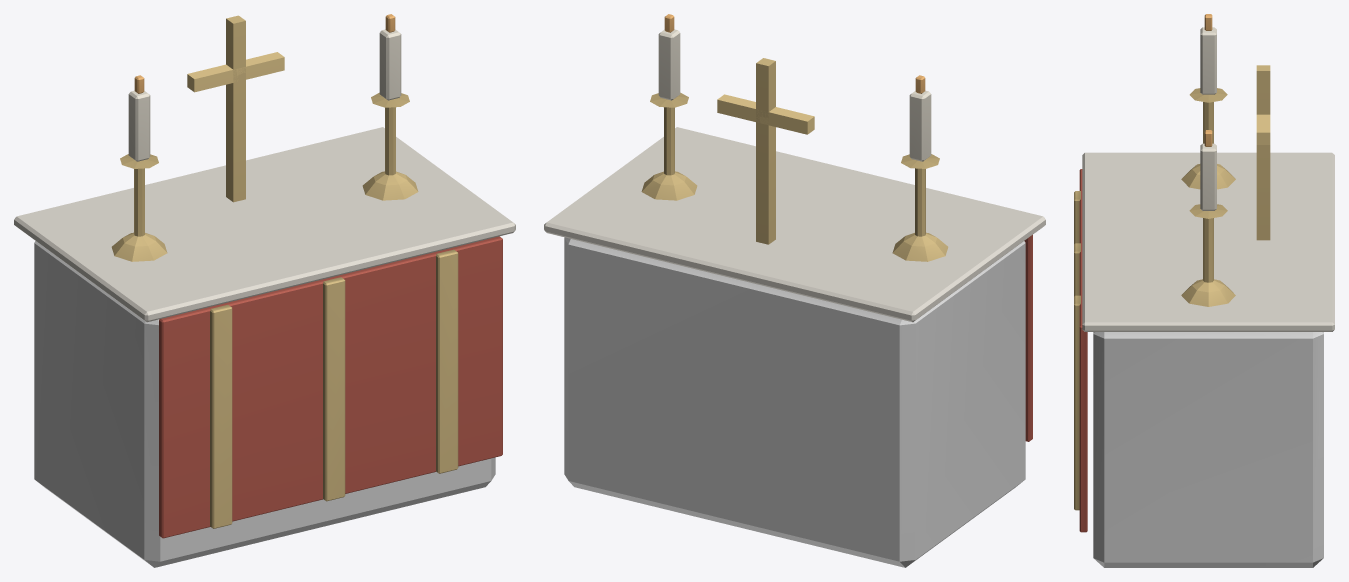
Rendered from altar.glb.
3 views of the same model, side by side, from view 1: azimuth 30°, elevation 25°; view 2: azimuth 150°, elevation 25°; view 3: azimuth 270°, elevation 25° (orthographic). The views are drawn at different scales.
Parts seen in each view (by area): view 1: altar; view 2: altar; view 3: altar.
Part boxes in pixels (bbox=[...]): altar: bbox=[14, 14, 515, 567]; altar: bbox=[544, 14, 1045, 567]; altar: bbox=[1074, 14, 1334, 567].
Bounding box in the file's own units: 1.48 × 1.7 × 0.95.
